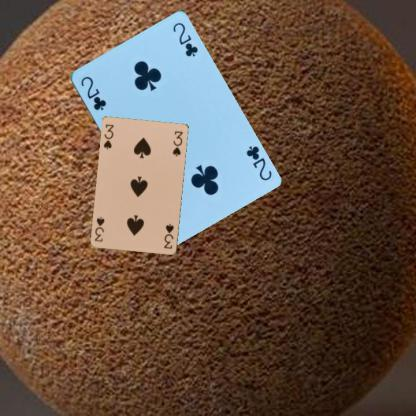2c: (242, 143, 272, 182), (78, 73, 107, 112)
3s: (101, 122, 115, 151), (162, 221, 175, 250)
